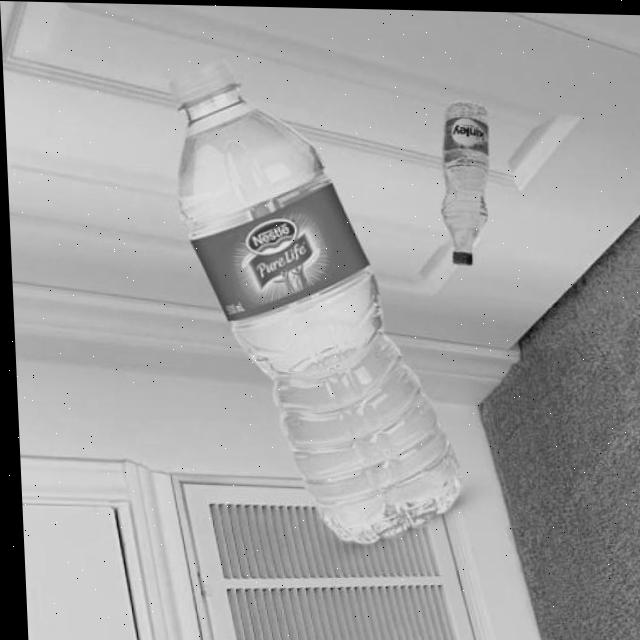bottle: (163, 57, 459, 545), (433, 98, 494, 264)
